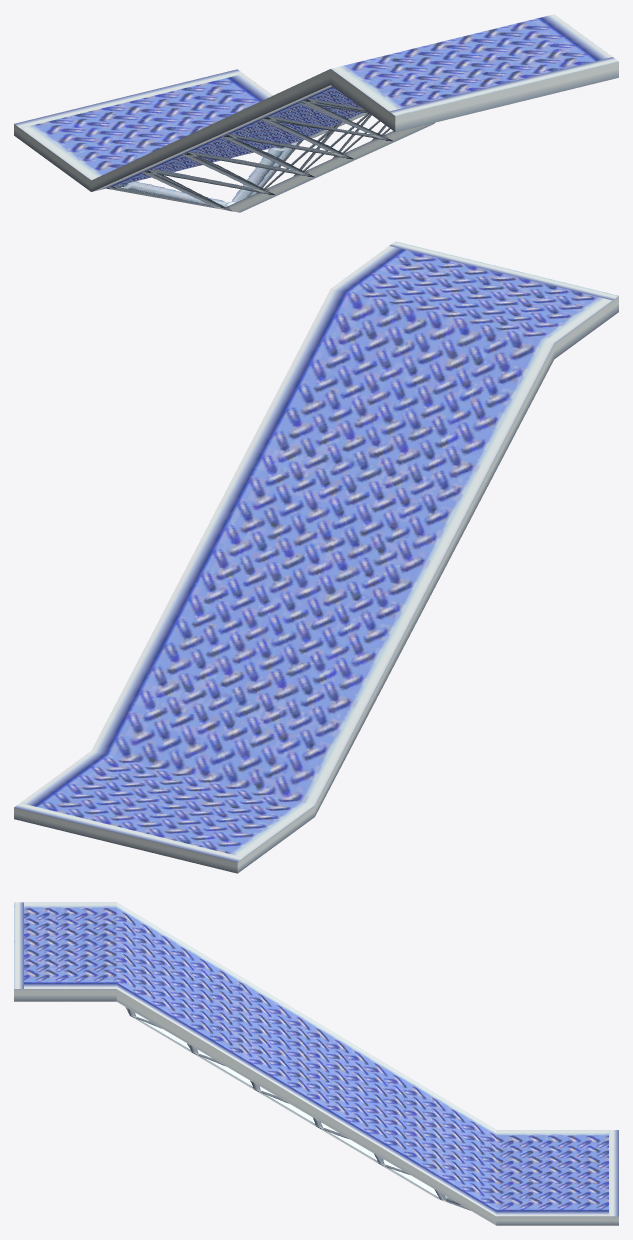
The model's file is riccogangway.dae.
3 renders of one model, top to bottom at view 1: azimuth 30°, elevation 25°; view 2: azimuth 150°, elevation 25°; view 3: azimuth 270°, elevation 25°, orthographic. The views are drawn at different scales.
Parts seen in each view (by area): view 1: m0; view 2: m0; view 3: m0.
Part boxes in pixels (x1,y1,x2,y2): m0: (14, 14, 618, 212); m0: (14, 241, 618, 873); m0: (14, 902, 618, 1225).
Bounding box in the file's own units: 500 × 683 × 1477.
1 material, 1 textured.
